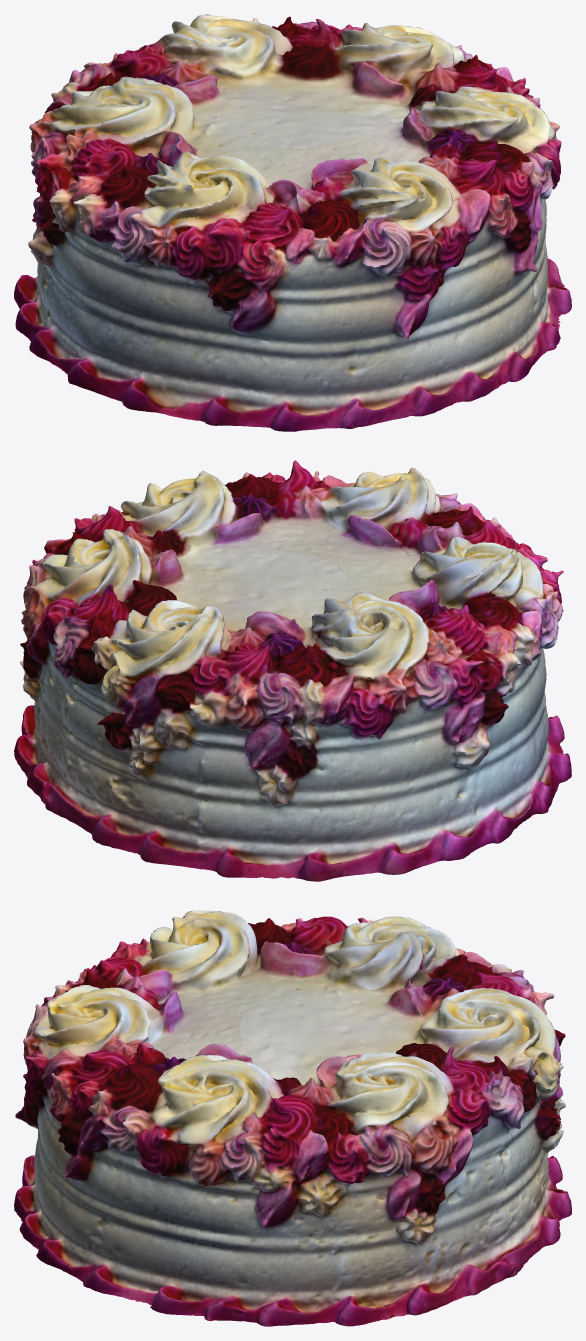
The model's file is food2.glb.
3 renders of one model, top to bottom at view 1: azimuth 30°, elevation 25°; view 2: azimuth 150°, elevation 25°; view 3: azimuth 270°, elevation 25°, orthographic.
Parts seen in each view (by area): view 1: 5, 28; view 2: 5, 28; view 3: 5, 28.
Part boxes in pixels (<box>): 5: <box>14,14,566,431</box>; 28: <box>44,23,571,410</box>; 5: <box>14,460,571,881</box>; 28: <box>21,470,528,818</box>; 5: <box>14,910,571,1321</box>; 28: <box>23,924,516,1326</box>.
Bounding box in the file's own units: 0.1384 × 0.0611 × 0.1378.
1 material, 1 textured.
